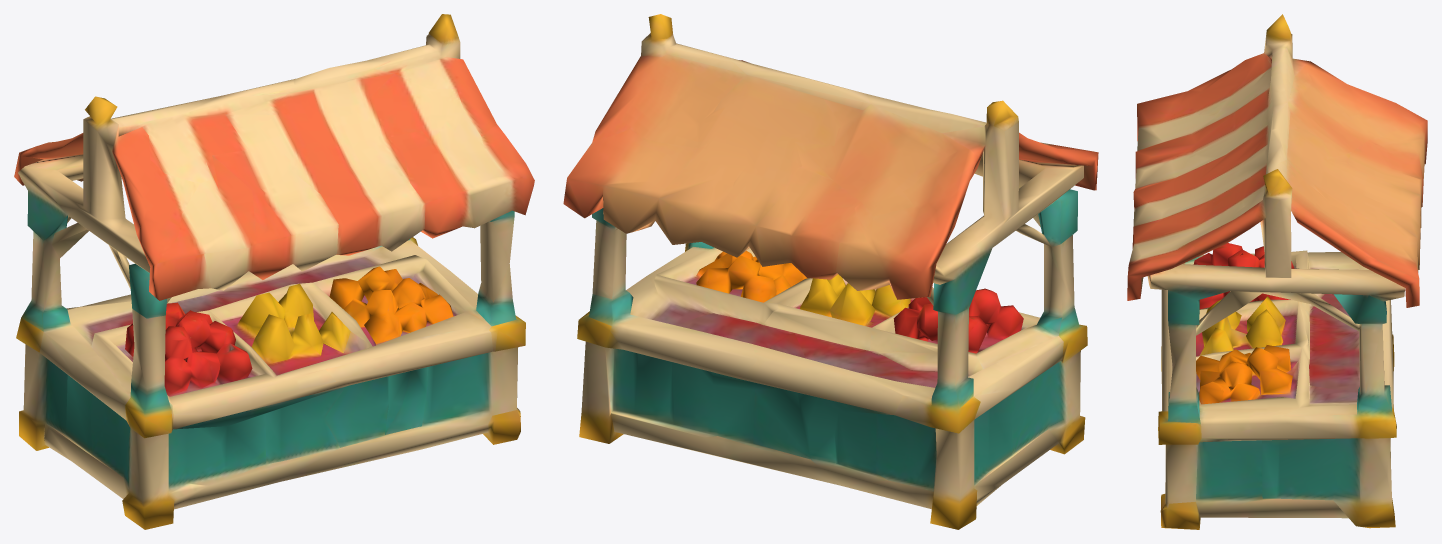
File: city-fruit-stall.glb
The picture shows the model from 3 angles, left to right: view 1: azimuth 30°, elevation 25°; view 2: azimuth 150°, elevation 25°; view 3: azimuth 270°, elevation 25°; orthographic projection. The views are drawn at different scales.
Parts seen in each view (by area): view 1: city-fruit-stall; view 2: city-fruit-stall; view 3: city-fruit-stall.
Boxes of the visible parts, box(x1,y1,x2,y2) form: city-fruit-stall: box(14, 14, 534, 529); city-fruit-stall: box(563, 14, 1098, 529); city-fruit-stall: box(1127, 14, 1427, 529).
Bounding box in the file's own units: 2.18 × 2.08 × 1.6.
Materials: 1 (1 with a texture image).
